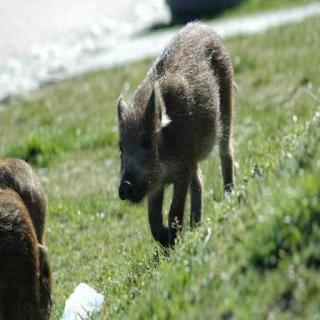Pig: (102, 23, 277, 240)
